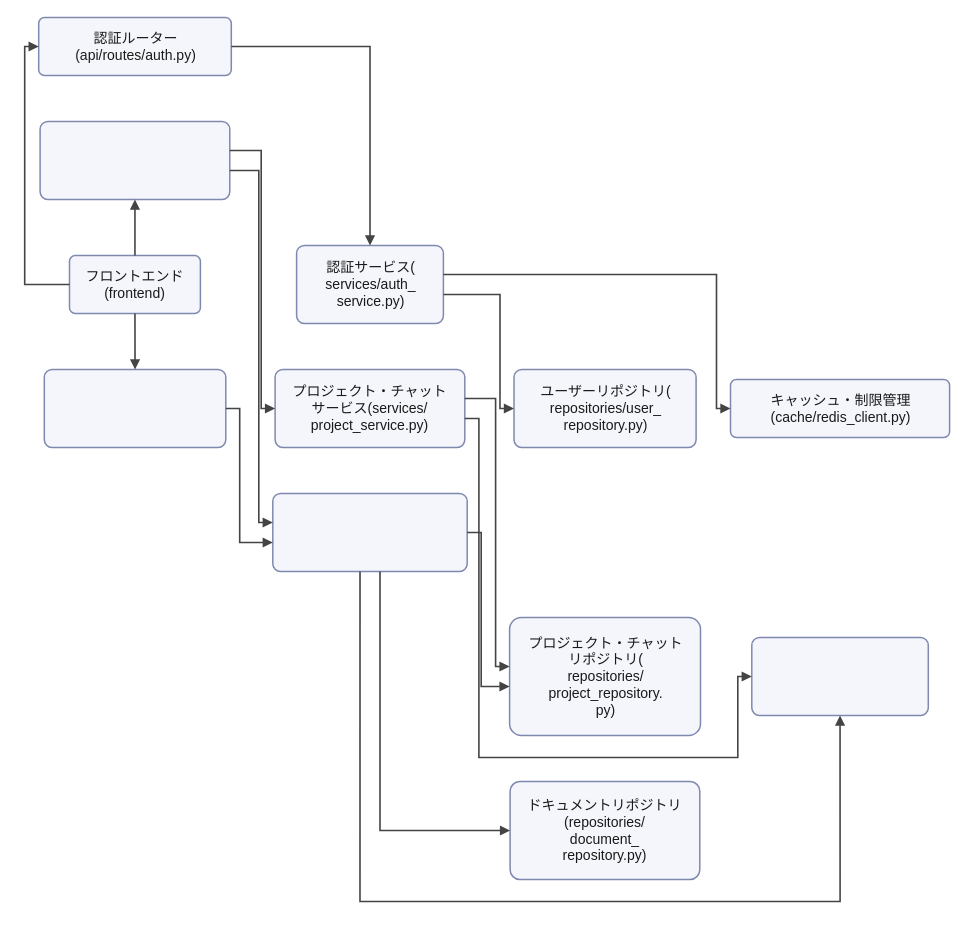
Image size: 968x928. Some labels were removed from this diagram. Here are the shapes that lost their labels. From the top down, the box of each, then its label:
(39, 120, 230, 200): プロジェクト・チャット ルーター(api/routes/ projects.py)
(43, 368, 226, 448): ドキュメントルーター( api/routes/ documents.py)
(272, 492, 468, 572): AIエージェントサービス (services/ai_ service.py)
(751, 636, 929, 716): Geminiクライアント( external/gemini_ client.py)
